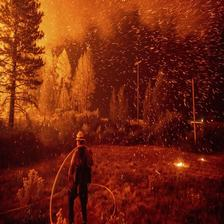fire: (7, 3, 82, 113)
